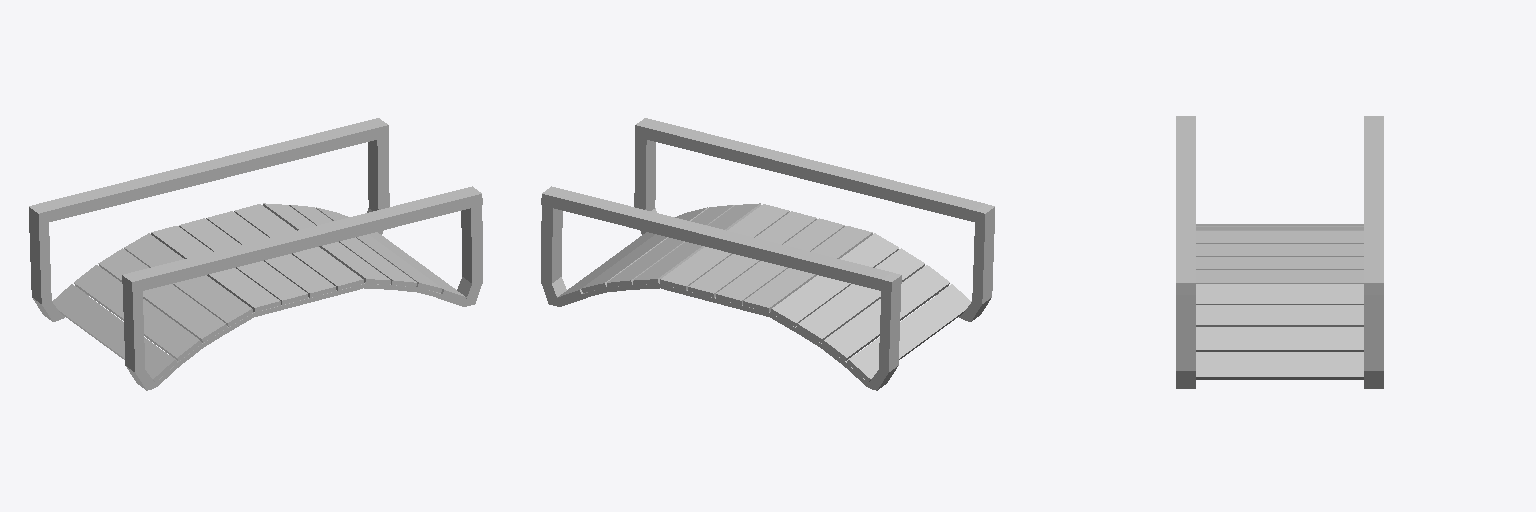
Rendered from C3_bridge.obj.
The picture shows the model from 3 angles: view 1: azimuth 30°, elevation 25°; view 2: azimuth 150°, elevation 25°; view 3: azimuth 270°, elevation 25°; orthographic projection.
Parts seen in each view (by area): view 1: Куб.023_Куб.024; view 2: Куб.023_Куб.024; view 3: Куб.023_Куб.024.
Part boxes in pixels (bbox=[...]): Куб.023_Куб.024: bbox=[29, 118, 482, 390]; Куб.023_Куб.024: bbox=[541, 118, 994, 390]; Куб.023_Куб.024: bbox=[1176, 116, 1383, 388].
Size of the model in its own units: 6.09 by 1.91 by 3.11.